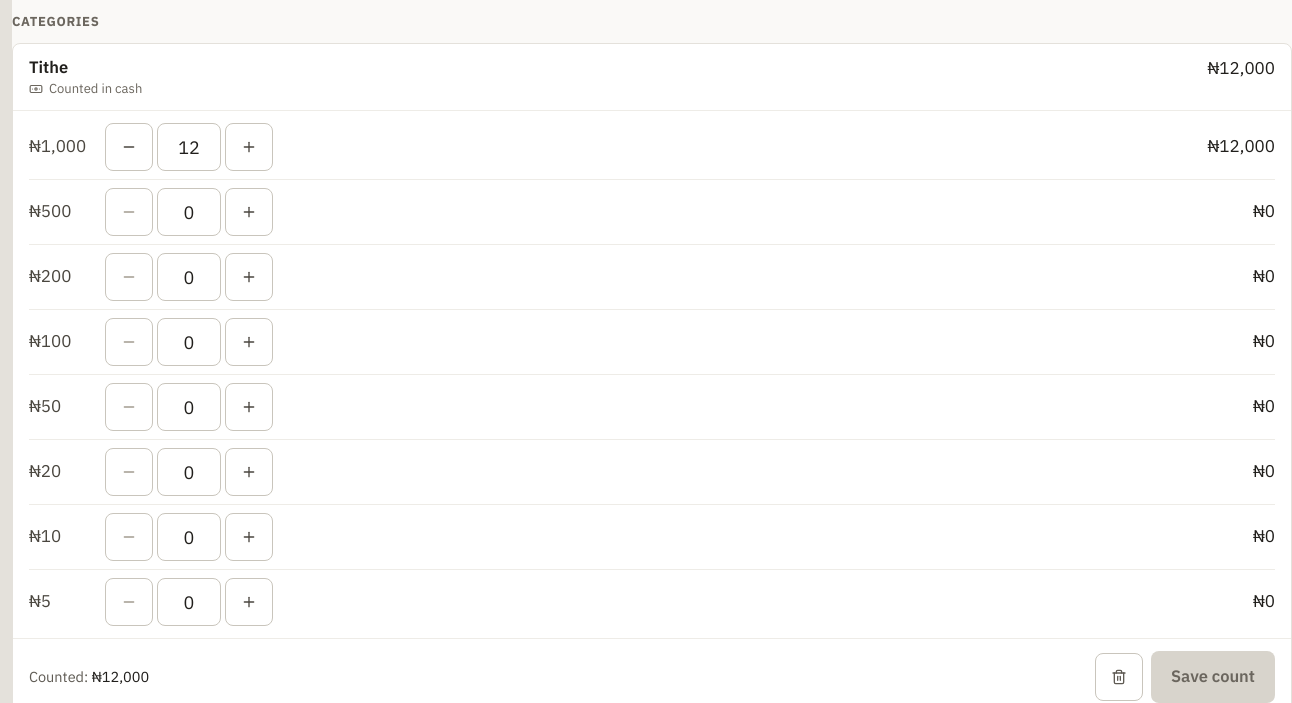
both blockers at once › joins two names with 'and', not a comma
The image size is (1292, 703).
Replace the text in the field named "How many 1,000 naira notes" with "20". click: (189, 147)
box: [157, 123, 221, 171]
(page scrolled)
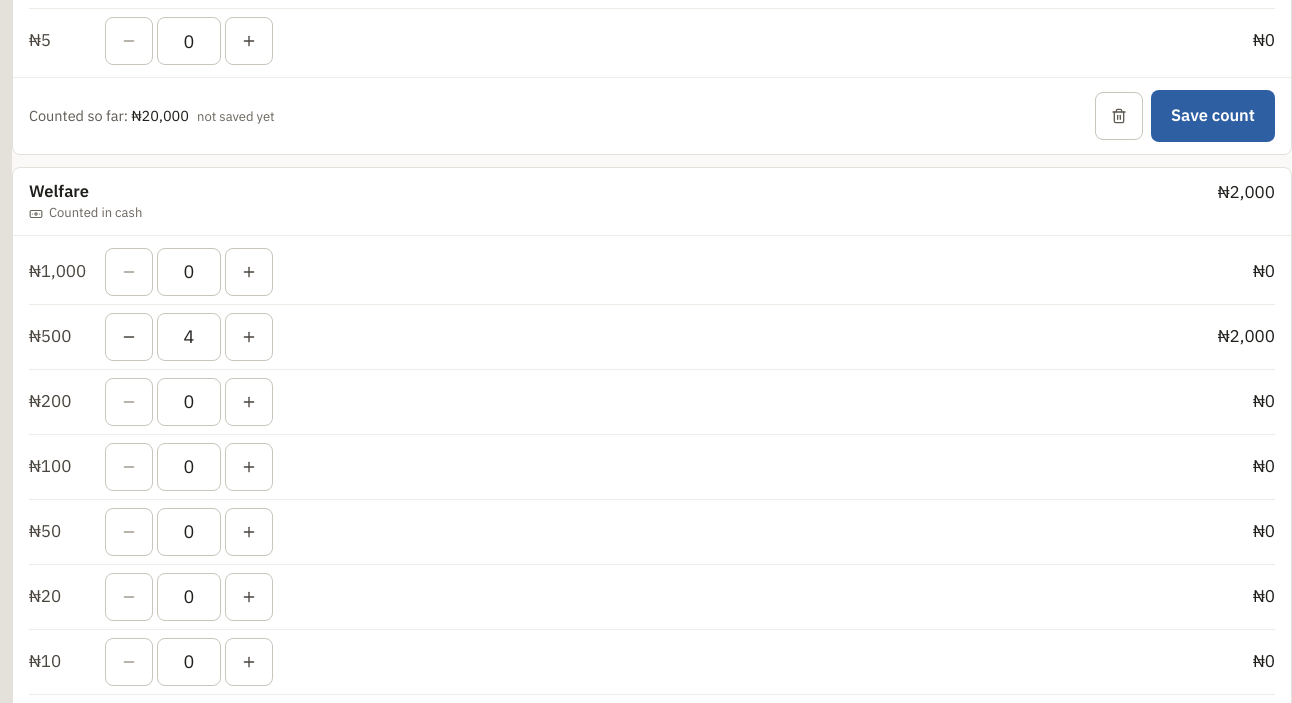
Replace the text in the field named "How many 500 naira notes" with "9". click: (189, 337)
box: [157, 313, 221, 361]
(page scrolled)
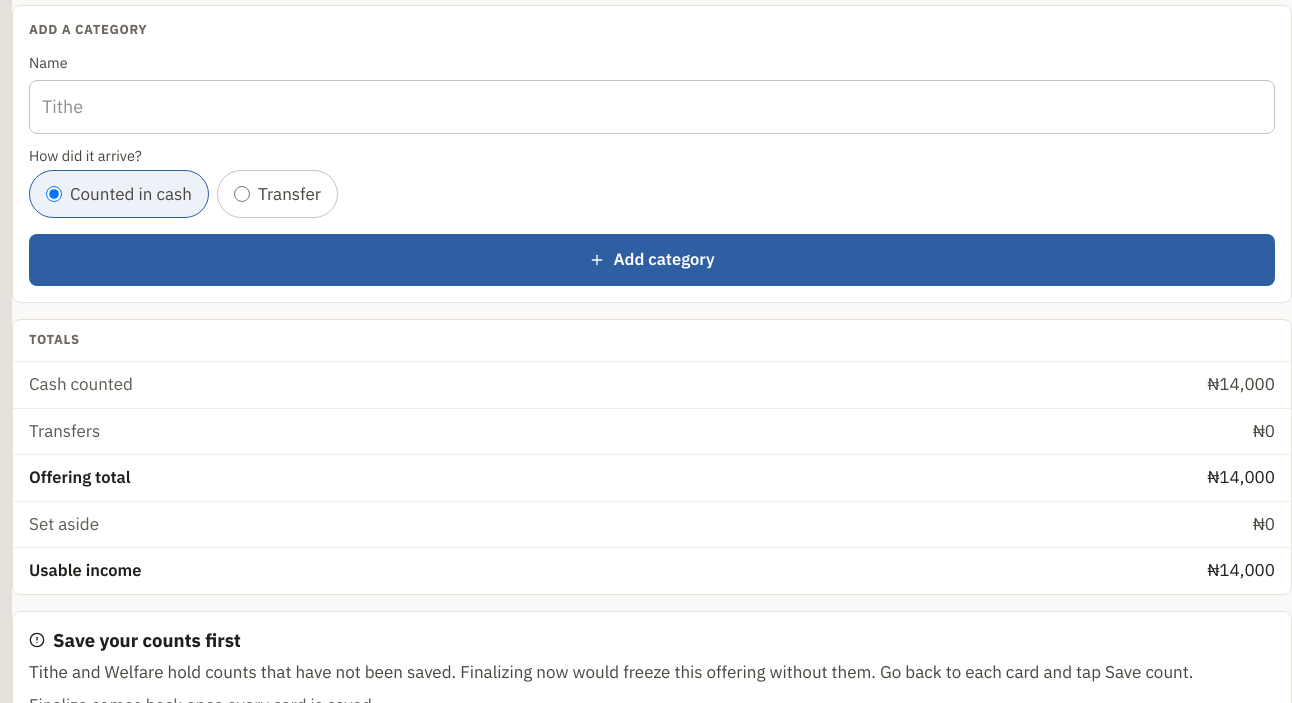
Check: the element "first" shows "Tithe and Welfare", box [29, 661, 164, 683]
